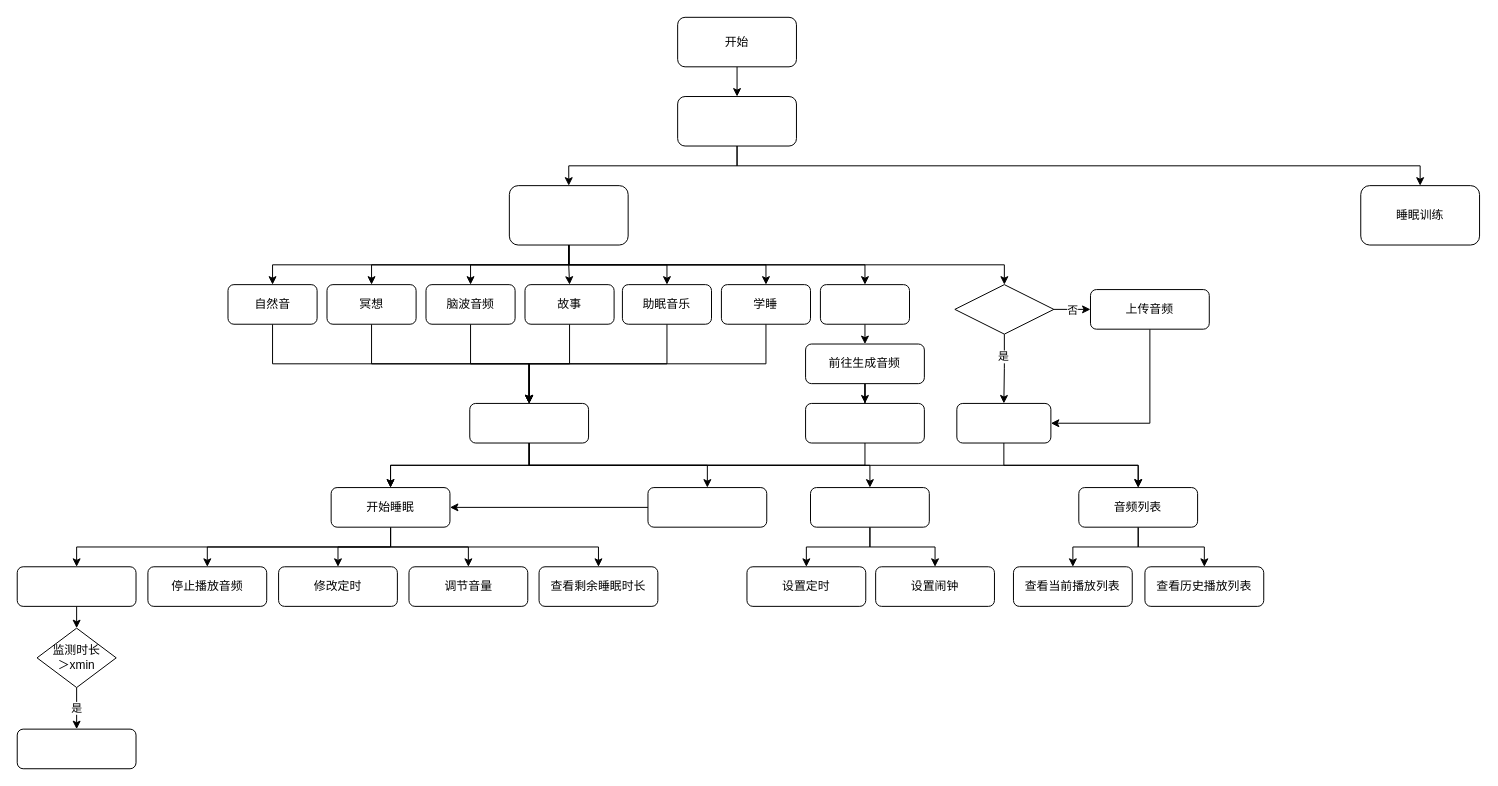
The diagram is 1498 pixels wide and 786 high, and some of its shapes have lost their labels. The shapes that lost their labels are listed below. From the top down, each one's centre as x and y in pixels, then its label:
At [736,121]: "查看更多睡眠疗愈".
At [568,215]: "助眠音频".
At [864,304]: "AI音频".
At [1004,309]: "是否上传过 本地音频".
At [529,422]: "播放选中的音频".
At [864,422]: "播放AI音频".
At [1003,422]: "播放本地音频".
At [707,507]: "选择其他音频".
At [869,507]: "时间设置".
At [76,586]: "结束睡眠".
At [76,748]: "生成睡眠报告".
